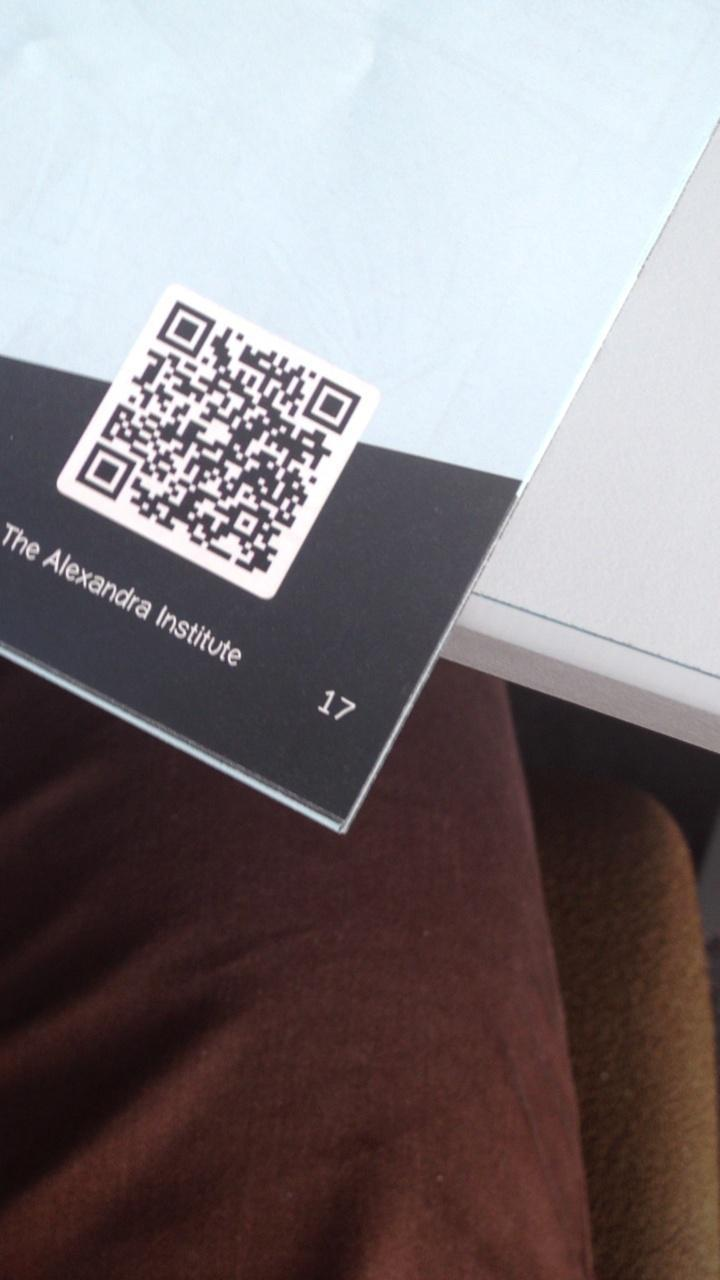qr_code: (77, 300, 362, 577)
